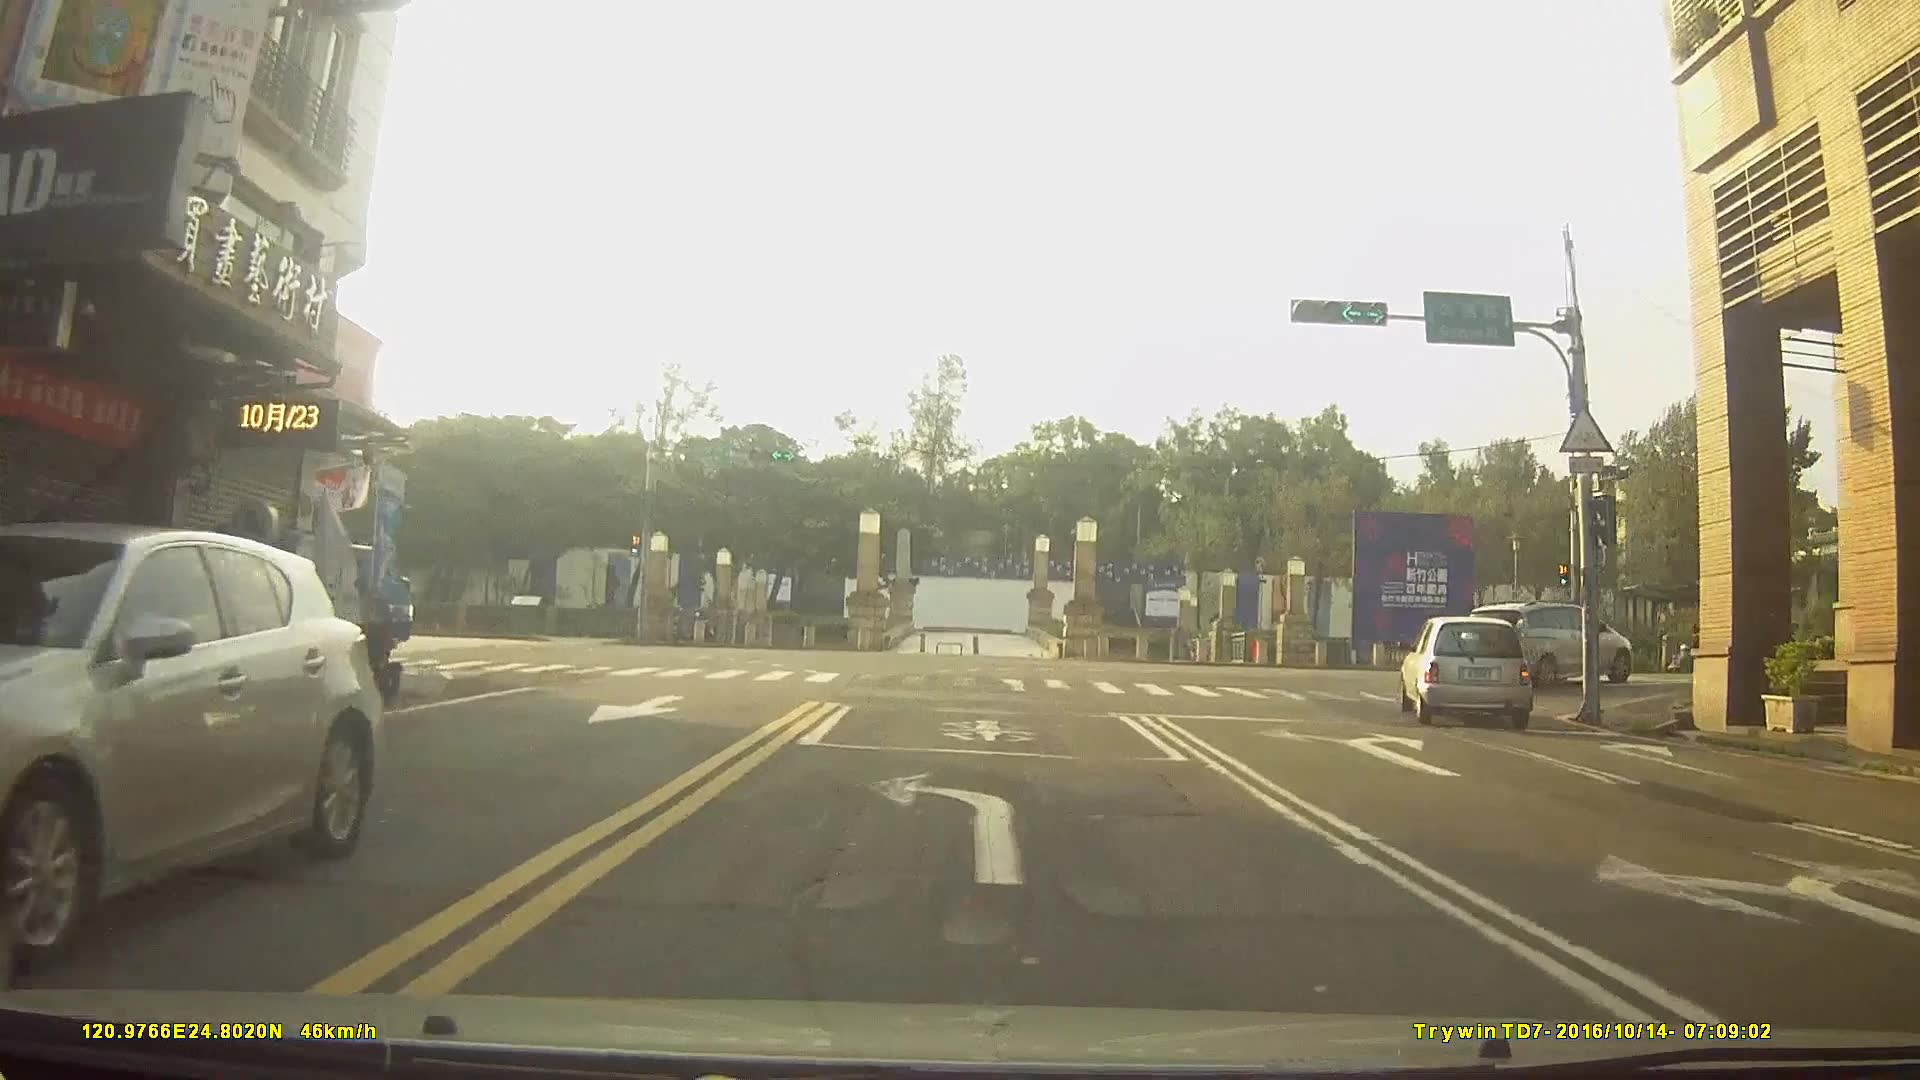vehicle: (0, 520, 382, 971), (1400, 612, 1535, 725), (1466, 599, 1635, 687)
